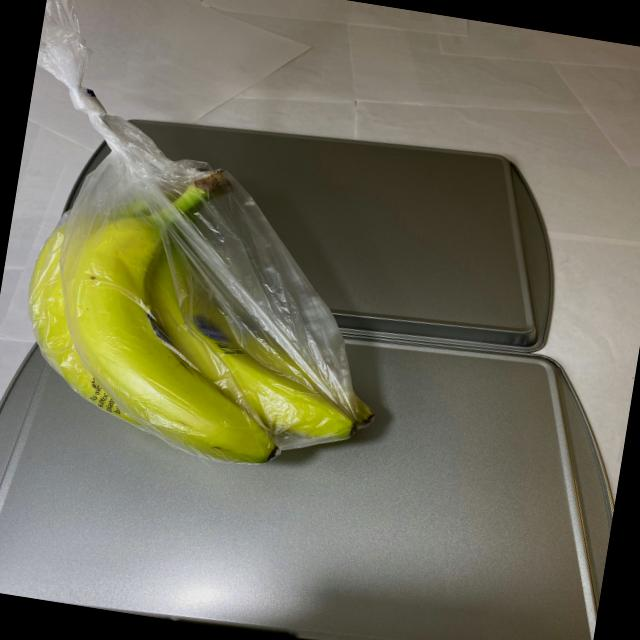banana: (9, 130, 421, 488)
